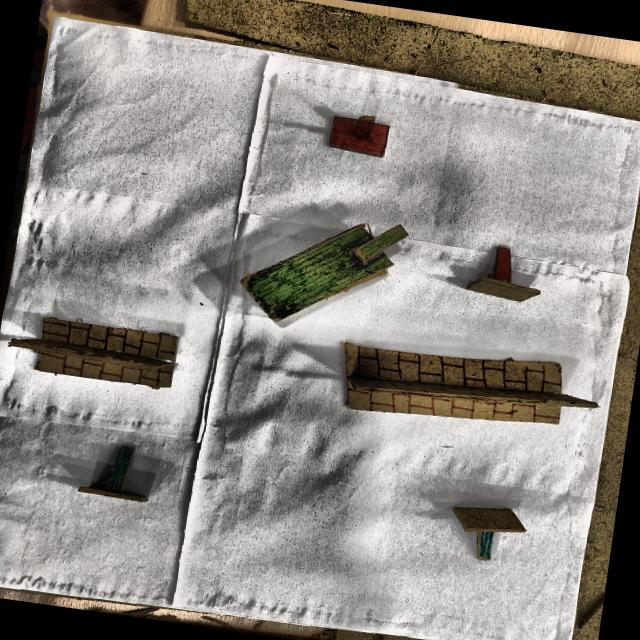Dead soldier -enemy-: (465, 244, 543, 306)
Dead soldier -frd-: (76, 444, 162, 509), (448, 493, 526, 563)
Tank: (238, 225, 409, 326)
Wall: (341, 342, 593, 427), (11, 318, 180, 391)
enemy: (325, 113, 394, 162)
